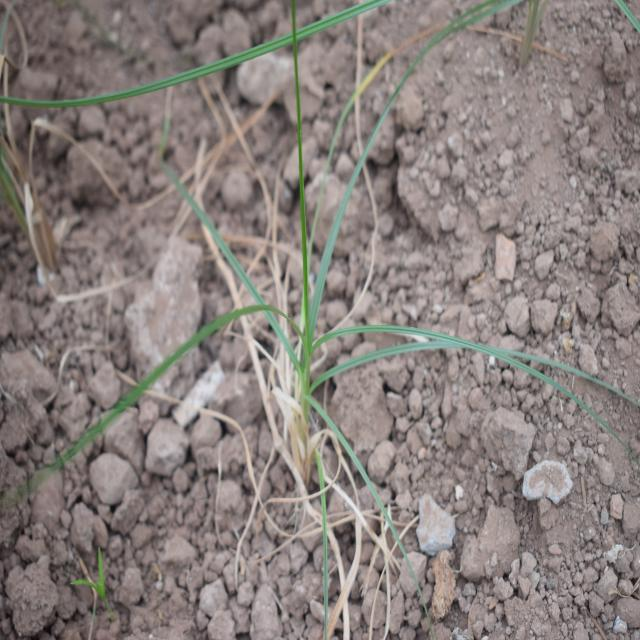sedge: (82, 19, 548, 549)
